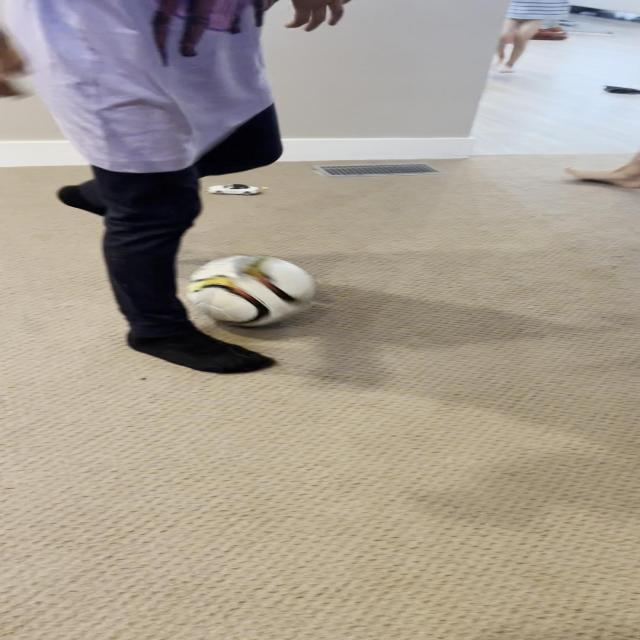Soccer Ball: (183, 253, 318, 327)
